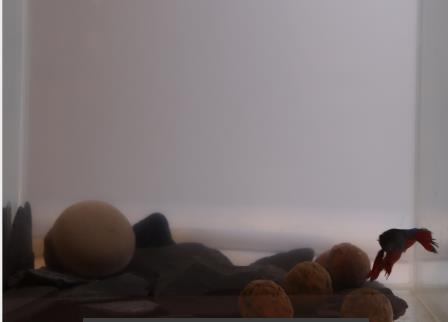fish: (367, 221, 441, 286)
